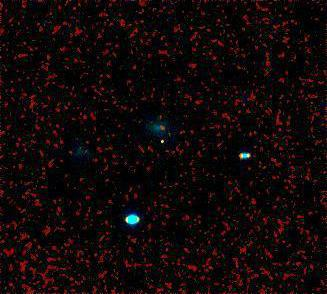star: (147, 127, 177, 157)
